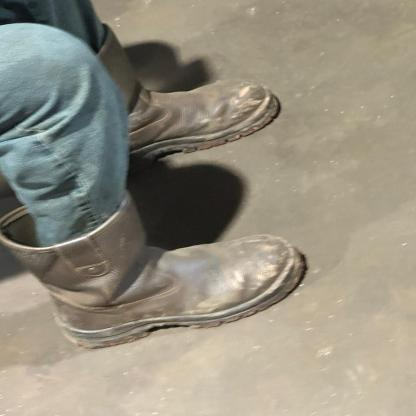bota: (3, 202, 326, 348), (70, 39, 294, 155)
